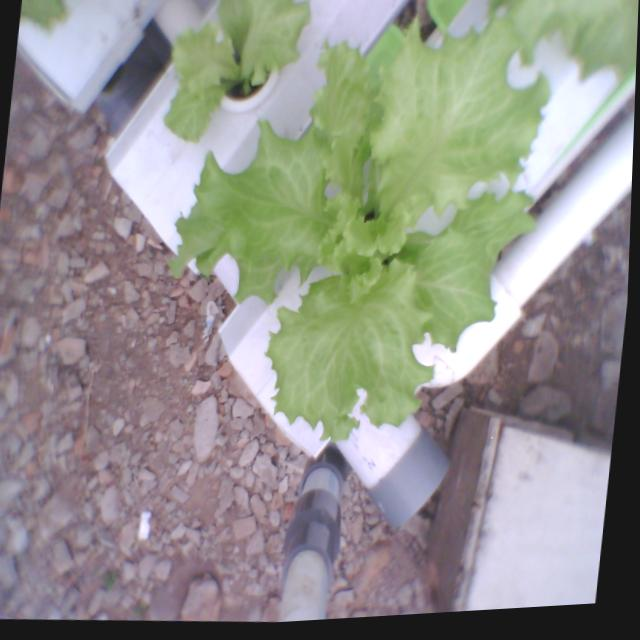FN: (138, 0, 565, 466), (150, 0, 319, 150)
